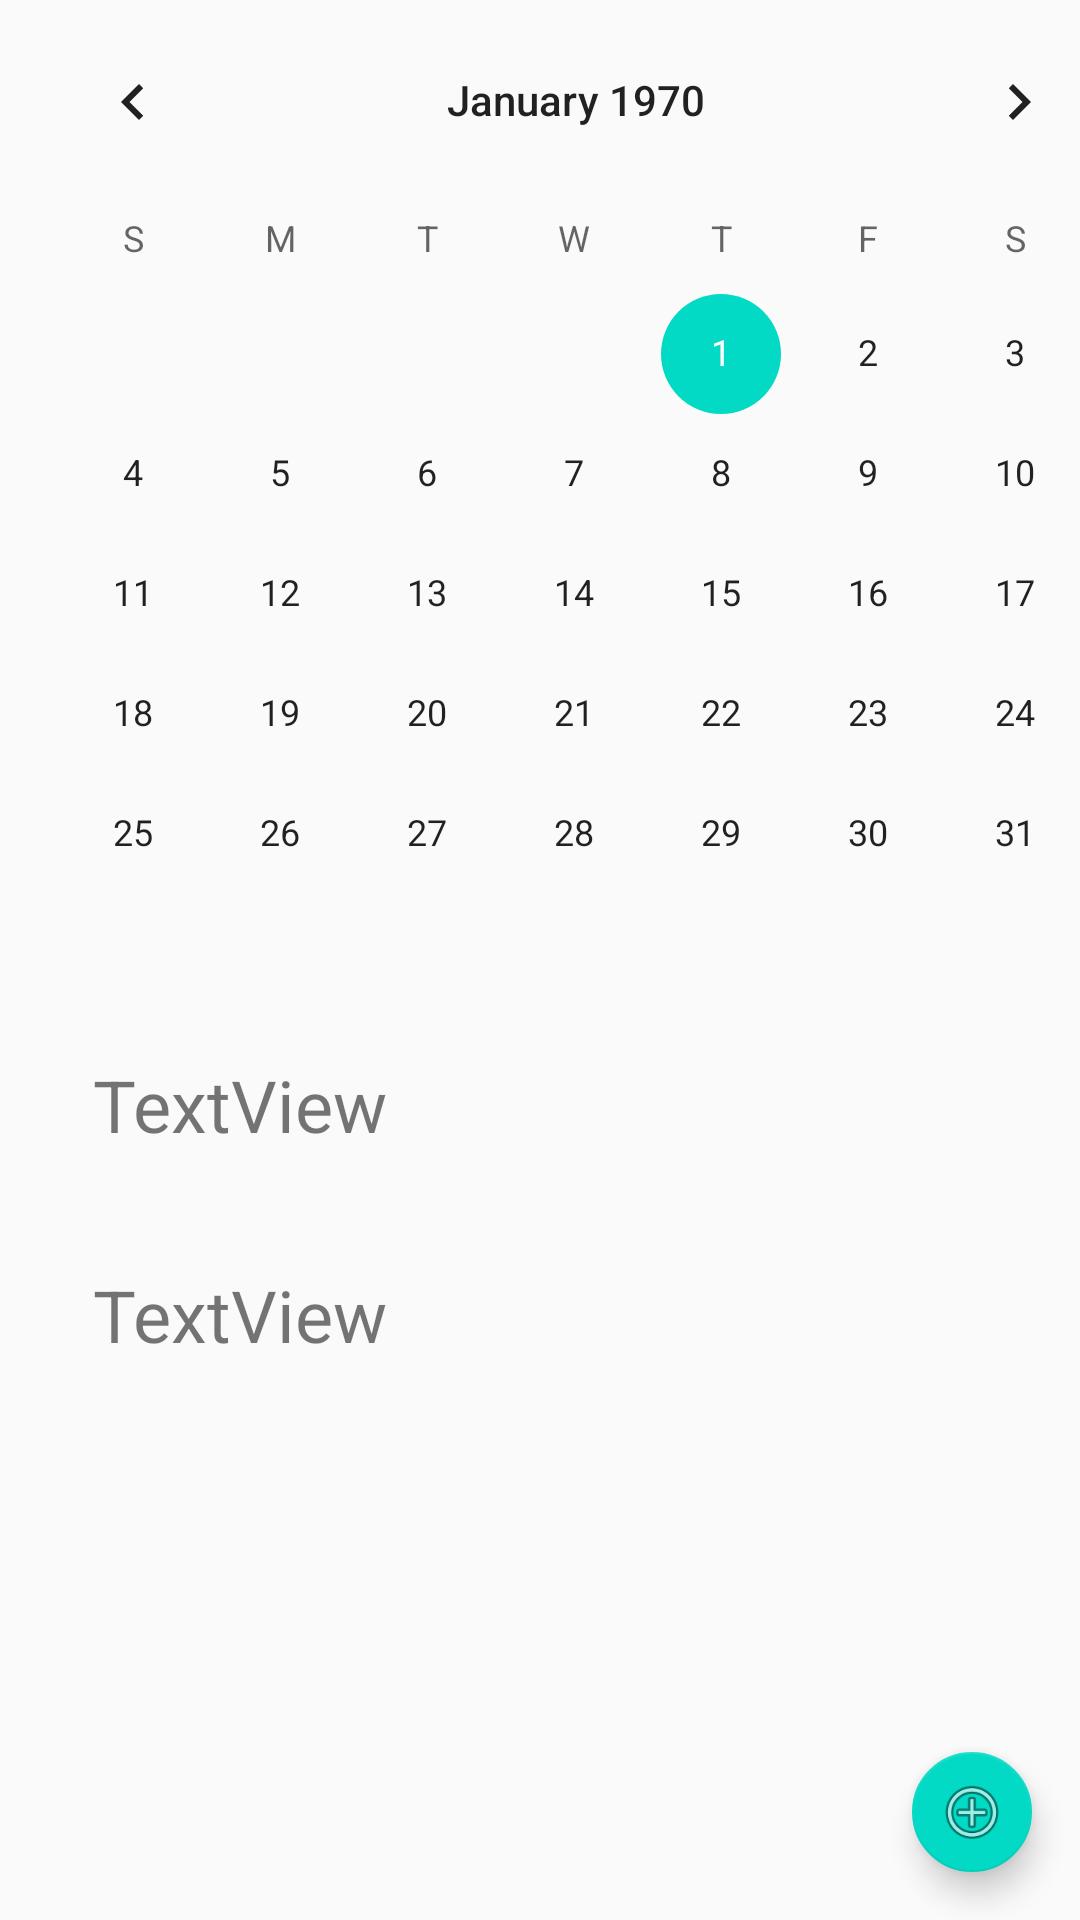

Where to tap for icons on this 1080x1920 app screen, as (x=x, y=y):
add: (x=972, y=1812)
